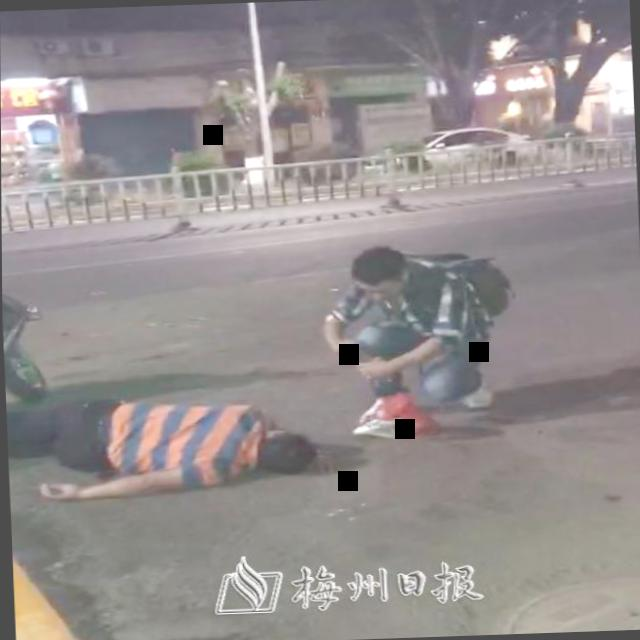Fall-Detected: (4, 374, 329, 512)
